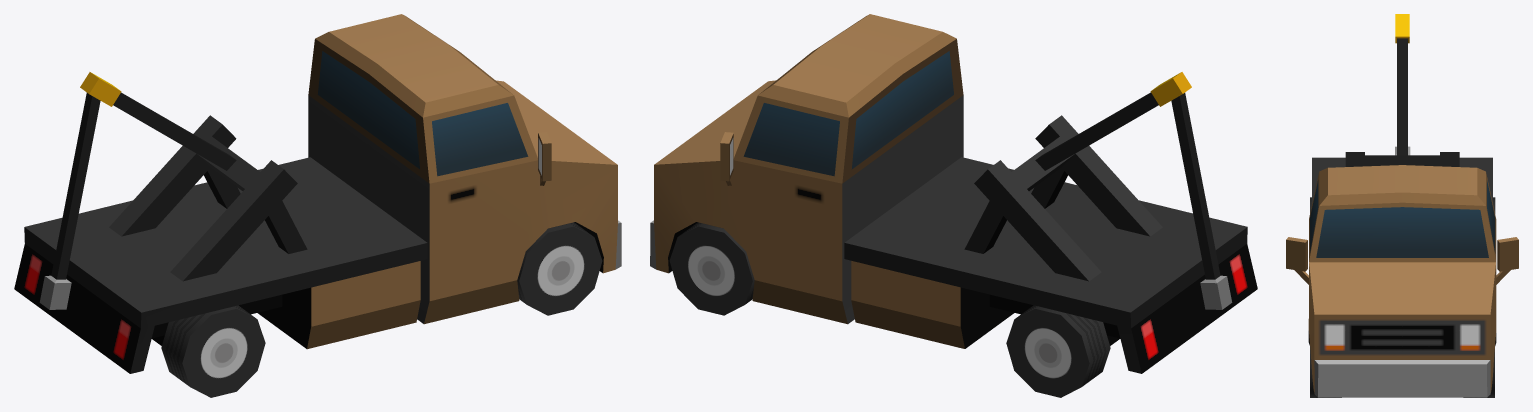
The model's file is Emergency_016.glb.
3 renders of one model, left to right at view 1: azimuth 30°, elevation 25°; view 2: azimuth 150°, elevation 25°; view 3: azimuth 270°, elevation 25°, orthographic. The views are drawn at different scales.
Visible parts, largest first — view 1: Emergency_016, wheel_3_Emergency_016_Wheel_2R, wheel_1_Emergency_016_Wheel_1R; view 2: Emergency_016, wheel_2_Emergency_016_Wheel_2L, wheel_0_Emergency_016_Wheel_1L; view 3: Emergency_016.
Boxes of the visible parts, <box> form: Emergency_016: <box>14,14,621,373</box>; wheel_3_Emergency_016_Wheel_2R: <box>161,305,265,397</box>; wheel_1_Emergency_016_Wheel_1R: <box>517,222,602,315</box>; Emergency_016: <box>650,14,1257,373</box>; wheel_2_Emergency_016_Wheel_2L: <box>1006,305,1110,397</box>; wheel_0_Emergency_016_Wheel_1L: <box>669,222,754,315</box>; Emergency_016: <box>1286,14,1518,397</box>.
Bounding box in the file's own units: 4.37 × 2.34 × 2.18.
1 material, 1 textured.
